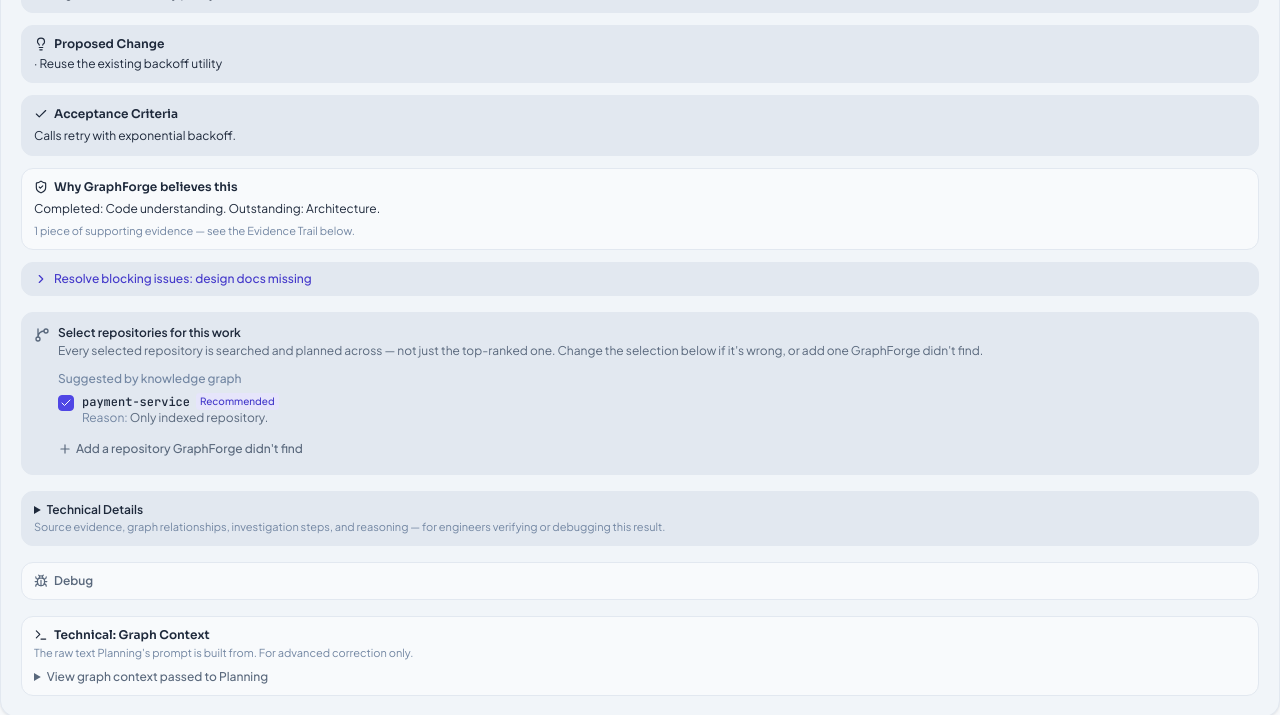
Test case: ContextExplorerPanel › shows evidence details inside Advanced Details, not Debug, labeling unverified claims
(page scrolled)
What coordinates should you click on to do the following:
click the heading "Technical Details"
I would click on:
 (350, 518)
Its box is 34,502 -> 666,533.
(page scrolled)
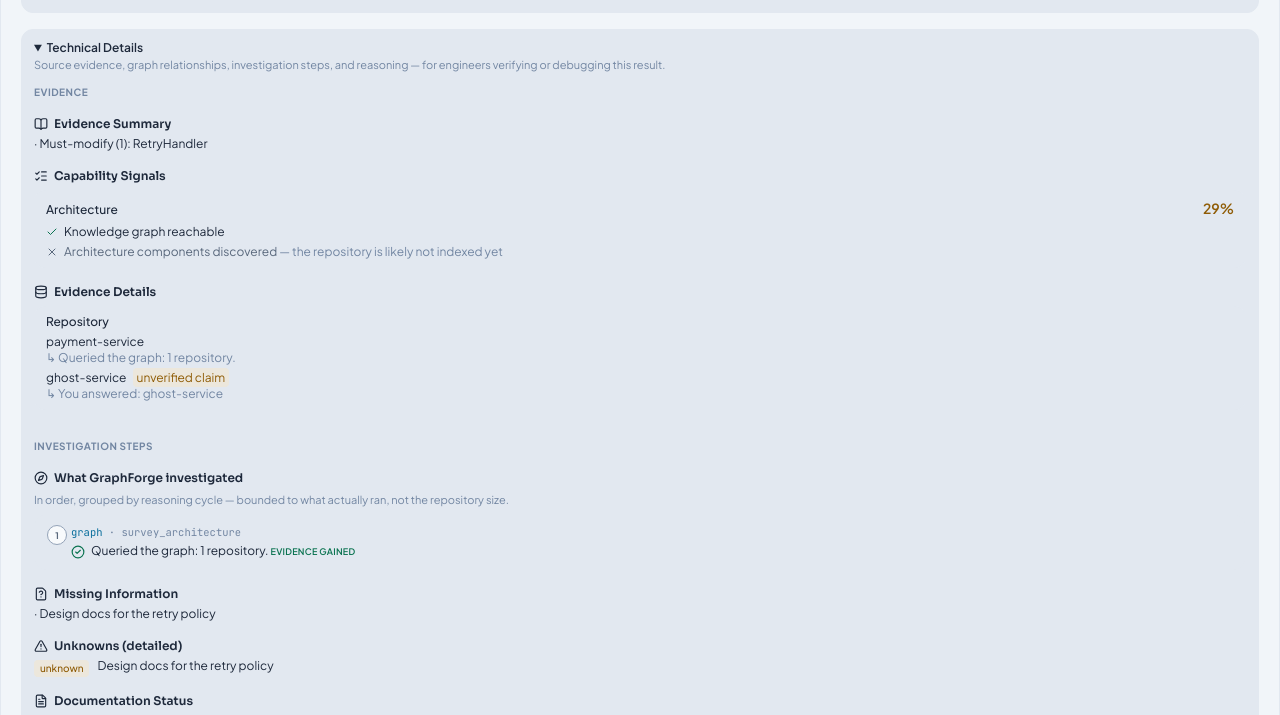
Now the text "ghost-service" is shown, box 46,370 -> 126,385
Now the text "unverified claim" is shown, box 132,368 -> 229,387
Now the text "↳ Queried the graph: 1 repository." is shown, box 46,350 -> 236,365
